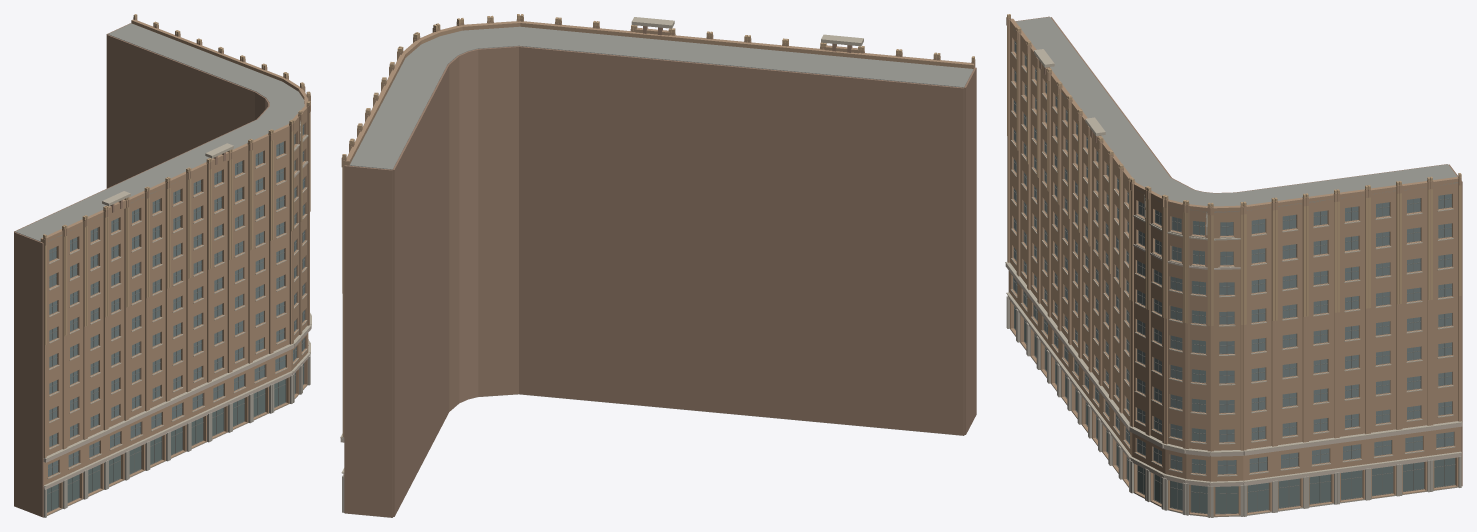
The model's file is jingan-denis-apartments-lod.glb.
3 renders of one model, left to right at view 1: azimuth 30°, elevation 25°; view 2: azimuth 150°, elevation 25°; view 3: azimuth 270°, elevation 25°, orthographic. The views are drawn at different scales.
Parts seen in each view (by area): view 1: 德义大楼（南京西路与石门路转角）; view 2: 德义大楼（南京西路与石门路转角）; view 3: 德义大楼（南京西路与石门路转角）.
Part boxes in pixels (box(x1,y1,x2,y2)): 德义大楼（南京西路与石门路转角）: box(14, 14, 311, 517); 德义大楼（南京西路与石门路转角）: box(340, 14, 976, 517); 德义大楼（南京西路与石门路转角）: box(1005, 14, 1462, 517).
Size of the model in its own units: 52.58 by 39.71 by 51.55.
